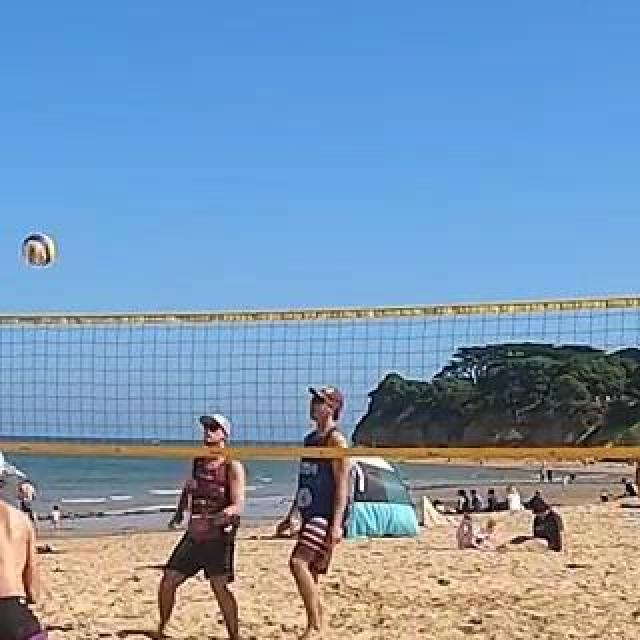volleyball: (23, 232, 55, 266)
